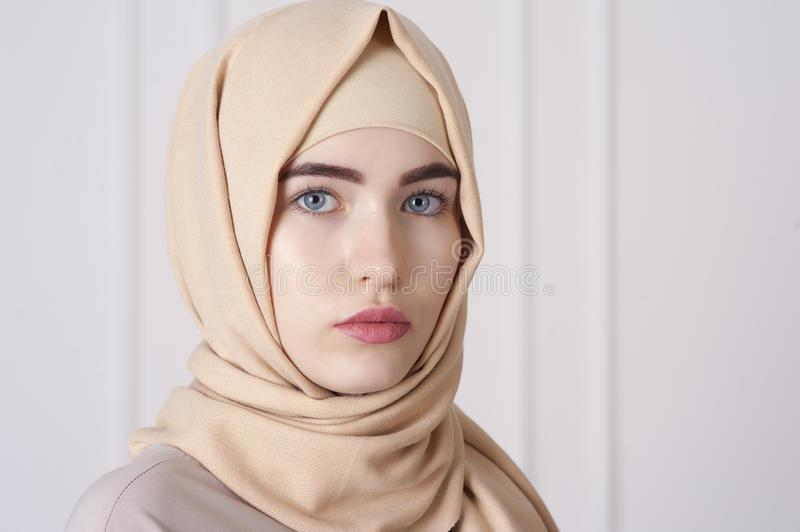No Mask: (242, 103, 494, 478)
